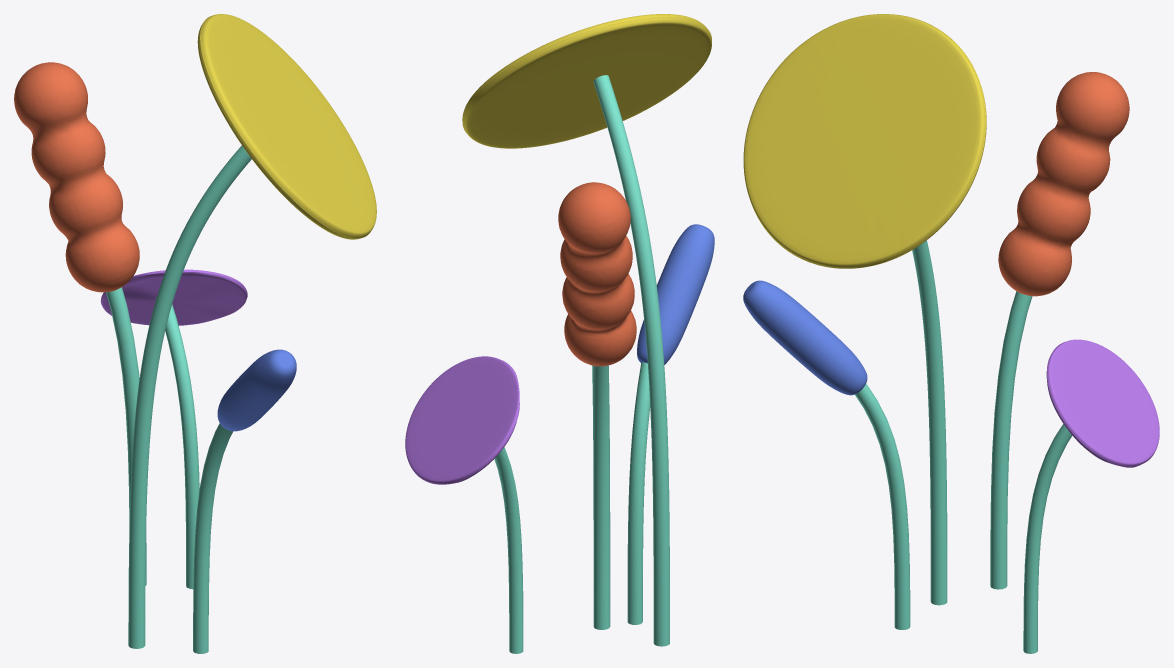
The model's file is sikmul.fbx.
3 renders of one model, left to right at view 1: azimuth 30°, elevation 25°; view 2: azimuth 150°, elevation 25°; view 3: azimuth 270°, elevation 25°, orthographic. The views are drawn at different scales.
Parts seen in each view (by area): view 1: Circle, Sphere.001, Circle.001, Cylinder, BezierCurve, BezierCurve.003, BezierCurve.001; view 2: Circle, Sphere.001, Circle.001, Cylinder, BezierCurve.001, BezierCurve, BezierCurve.003; view 3: Circle, Sphere.001, Circle.001, Cylinder, BezierCurve.001, BezierCurve, BezierCurve.003.
Part boxes in pixels (x1,y1,x2,y2): Circle: [128, 14, 376, 648]; Sphere.001: [14, 62, 139, 292]; Circle.001: [100, 269, 247, 325]; Cylinder: [217, 349, 296, 431]; BezierCurve: [193, 423, 233, 653]; BezierCurve.003: [155, 297, 199, 589]; BezierCurve.001: [106, 287, 146, 585]; Circle: [462, 14, 711, 646]; Sphere.001: [558, 182, 636, 366]; Circle.001: [405, 356, 519, 484]; Cylinder: [637, 224, 714, 364]; BezierCurve.001: [592, 365, 610, 629]; BezierCurve: [627, 362, 650, 624]; BezierCurve.003: [494, 447, 523, 653]; Circle: [743, 14, 986, 605]; Sphere.001: [998, 72, 1129, 296]; Circle.001: [1046, 339, 1159, 467]; Cylinder: [743, 280, 867, 395]; BezierCurve.001: [990, 291, 1032, 589]; BezierCurve: [855, 383, 910, 629]; BezierCurve.003: [1023, 424, 1072, 653].
Bounding box in the file's own units: 770 × 1847 × 1138.
